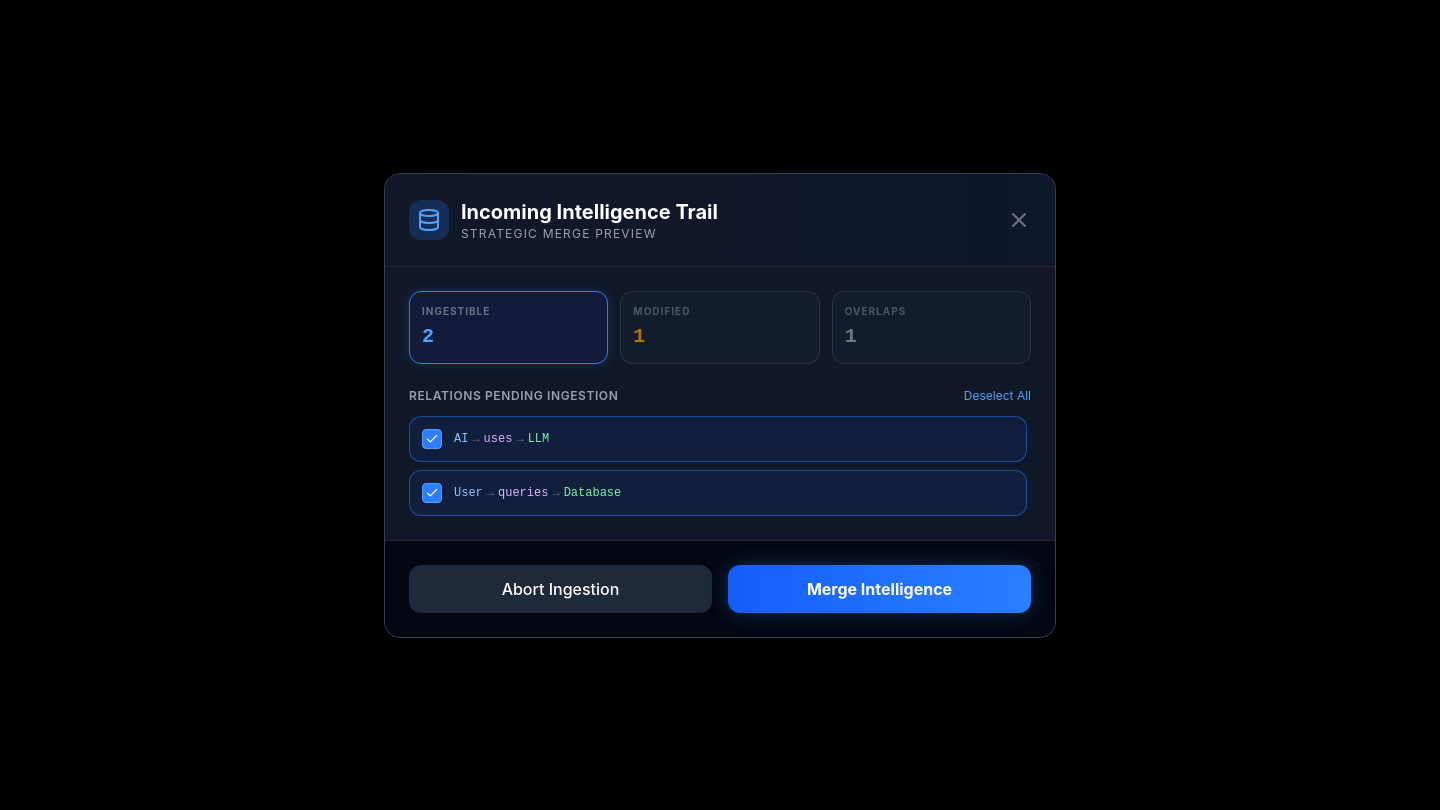
MergePreview Component [GREEN] › should switch tabs, show counts, and highlight original-to-updated diffs
Expected: the text "2" is shown, [422, 324, 434, 348]
Expected: the text "1" is shown 2 times, [633, 324, 645, 348]; [845, 324, 857, 348]
Click tab-modified
Click the button with test id "tab-modified" at (720, 327), box [620, 290, 820, 364]
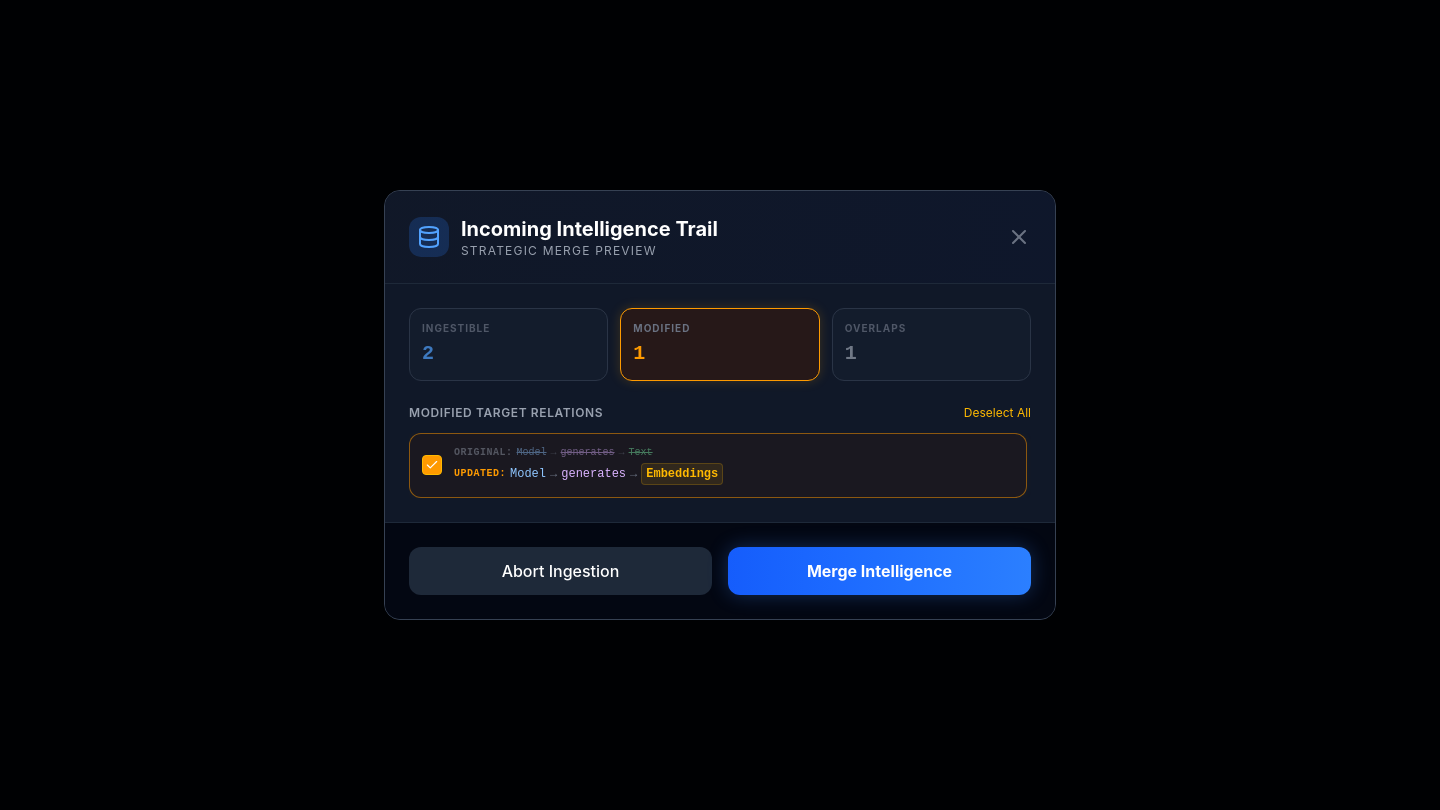
Expected: the heading "Modified Target Relations" is shown, [409, 405, 603, 421]
Expected: the text "Original:" is shown, [454, 446, 512, 459]
Expected: the text "Updated:" is shown, [454, 468, 506, 481]
Click tab-overlaps
Click the button with test id "tab-overlaps" at (931, 344), box [832, 308, 1031, 381]
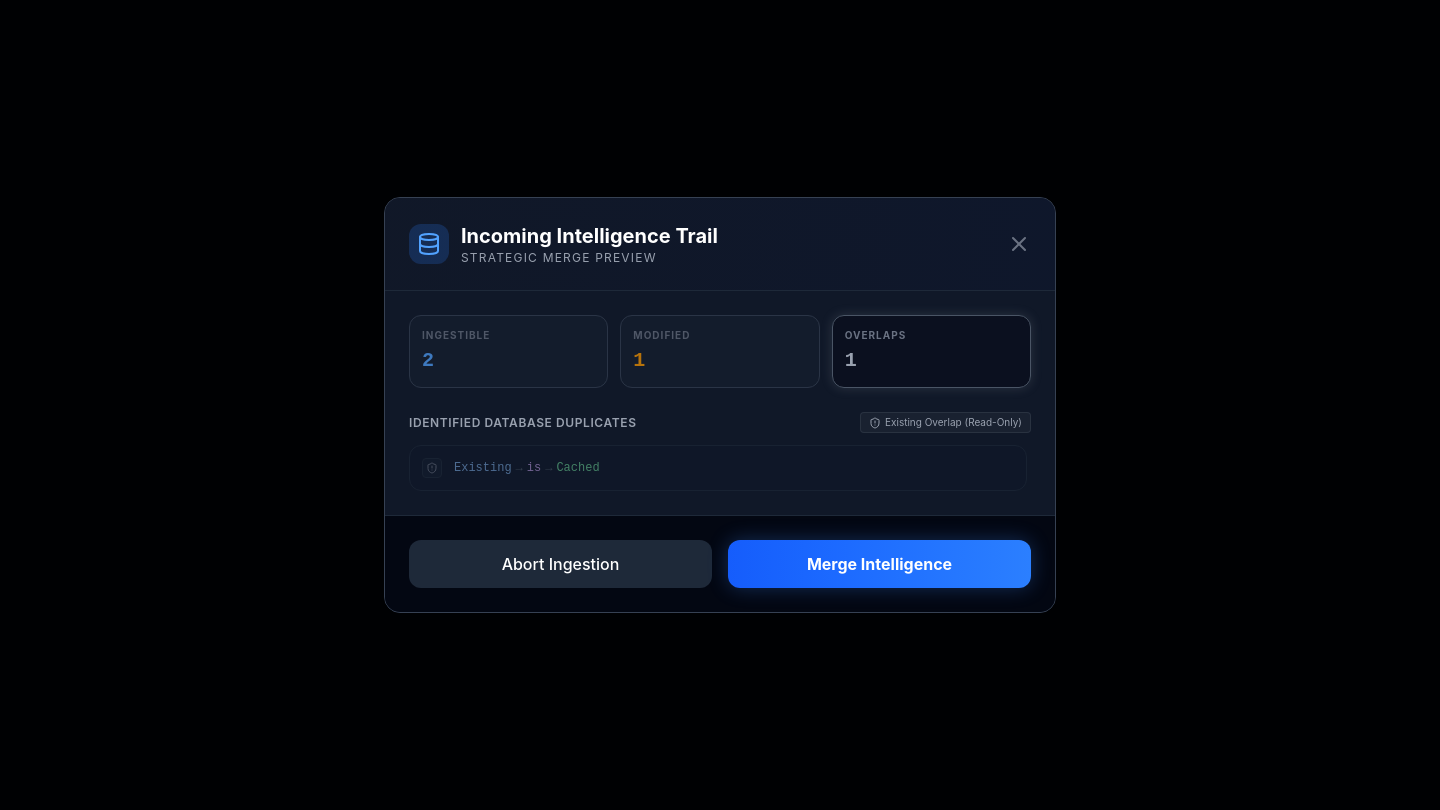
Expected: the heading "Identified Database Duplicates" is shown, [409, 414, 637, 430]
